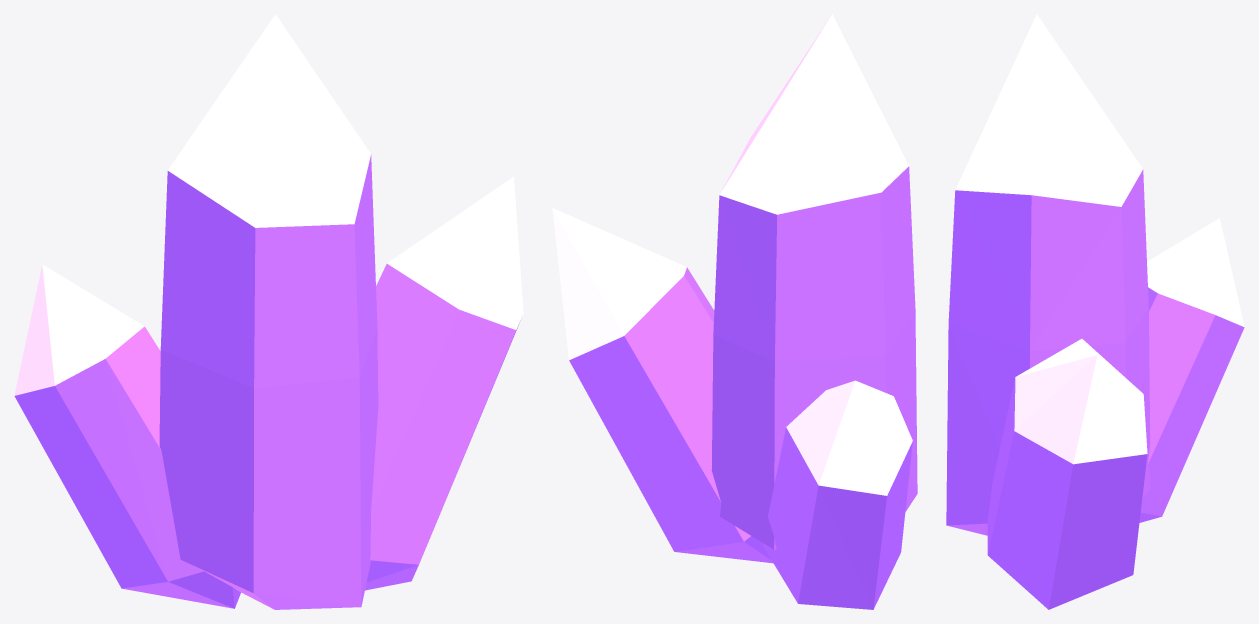
The model's file is Shard_Medium.fbx.
3 renders of one model, left to right at view 1: azimuth 30°, elevation 25°; view 2: azimuth 150°, elevation 25°; view 3: azimuth 270°, elevation 25°, orthographic. The views are drawn at different scales.
Parts seen in each view (by area): view 1: Shard_Medium; view 2: Shard_Medium; view 3: Shard_Medium.
Boxes of the visible parts, left/top/right/bottom form: Shard_Medium: left=14, top=14, right=523, bottom=609; Shard_Medium: left=552, top=14, right=917, bottom=609; Shard_Medium: left=946, top=14, right=1244, bottom=609.
Size of the model in its own units: 0.2615 by 0.35 by 0.177.
